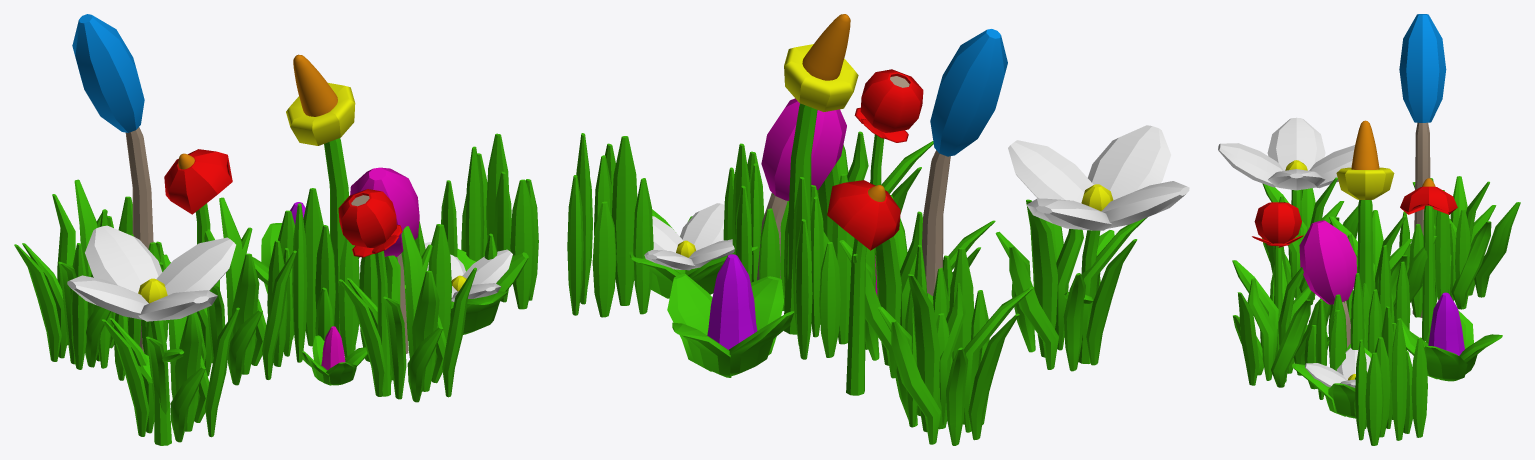
The model's file is FlowerPatch.fbx.
The picture shows the model from 3 angles, left to right: view 1: azimuth 30°, elevation 25°; view 2: azimuth 150°, elevation 25°; view 3: azimuth 270°, elevation 25°; orthographic projection. The views are drawn at different scales.
Visible parts, largest first — view 1: pCylinder2 (×2), pCylinder23 (×3), pCylinder29 (×3), pCylinder24 (×3), pCylinder30 (×3), pCylinder26 (×4), pCylinder27 (×4), pCylinder31 (×4), pCylinder15 (×4), pCylinder13 (×3), pCylinder42, pCylinder18 (×2) (+25 smaller); view 2: pCylinder2 (×2), pCylinder26 (×4), pCylinder13 (×3), pCylinder22 (×4), pCylinder20 (×3), pCylinder28 (×3), pCylinder29 (×4), pCylinder41, pCylinder16 (×4), pCylinder31 (×3), pCylinder24 (×2), pCylinder18 (×3) (+26 smaller); view 3: pCylinder2 (×2), pCylinder18 (×4), pCylinder22 (×4), pCylinder32 (×3), pCylinder14 (×4), pCylinder28 (×3), pCylinder38, pCylinder26 (×4), pCylinder23 (×3), pCylinder29 (×2), pCylinder7, pCylinder33 (+27 smaller).
Part boxes in pixels (<box>): pCylinder2 (×2): <box>72,14,419,256</box>; pCylinder23 (×3): <box>338,179,534,357</box>; pCylinder29 (×3): <box>175,253,439,431</box>; pCylinder24 (×3): <box>14,244,386,436</box>; pCylinder30 (×3): <box>205,250,476,437</box>; pCylinder26 (×4): <box>74,179,424,399</box>; pCylinder27 (×4): <box>85,306,442,442</box>; pCylinder31 (×4): <box>58,261,406,414</box>; pCylinder15 (×4): <box>70,180,457,369</box>; pCylinder13 (×3): <box>96,146,482,368</box>; pCylinder42: <box>85,225,162,293</box>; pCylinder18 (×2): <box>303,133,508,346</box>; pCylinder2 (×2): <box>761,29,1007,200</box>; pCylinder26 (×4): <box>817,163,1057,432</box>; pCylinder13 (×3): <box>611,136,974,360</box>; pCylinder22 (×4): <box>567,175,917,427</box>; pCylinder20 (×3): <box>592,201,840,357</box>; pCylinder28 (×3): <box>853,245,1058,444</box>; pCylinder29 (×4): <box>847,131,1083,424</box>; pCylinder41: <box>1088,125,1170,200</box>; pCylinder16 (×4): <box>594,155,948,337</box>; pCylinder31 (×3): <box>881,141,1147,432</box>; pCylinder24 (×2): <box>968,239,1137,440</box>; pCylinder18 (×3): <box>576,133,811,345</box>; pCylinder2 (×2): <box>1299,14,1446,304</box>; pCylinder18 (×4): <box>1350,190,1450,440</box>; pCylinder22 (×4): <box>1367,209,1470,437</box>; pCylinder32 (×3): <box>1271,221,1491,387</box>; pCylinder14 (×4): <box>1330,224,1423,445</box>; pCylinder28 (×3): <box>1293,202,1520,375</box>; pCylinder38: <box>1267,117,1325,170</box>; pCylinder26 (×4): <box>1278,177,1489,382</box>; pCylinder23 (×3): <box>1315,211,1410,440</box>; pCylinder29 (×2): <box>1247,195,1303,380</box>; pCylinder7: <box>1254,202,1301,243</box>; pCylinder33: <box>1428,292,1464,355</box>.
Size of the model in its own units: 7.43 by 5.02 by 4.9.
